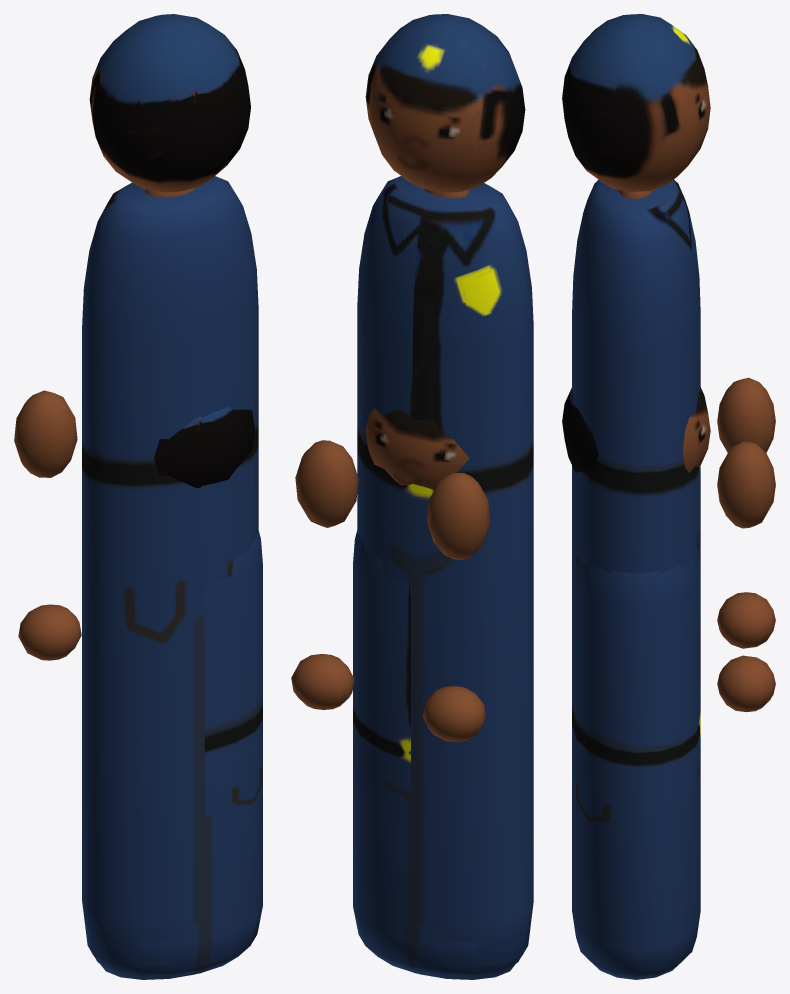
Rendered from seeker_models.glb.
3 views of the same model, side by side, from view 1: azimuth 30°, elevation 25°; view 2: azimuth 150°, elevation 25°; view 3: azimuth 270°, elevation 25° (orthographic).
Visible parts, largest first — view 1: seeker_standing, seeker_crouching; view 2: seeker_standing, seeker_crouching; view 3: seeker_standing, seeker_crouching.
Boxes of the visible parts, left/top/right/bottom form: seeker_standing: left=14, top=14, right=258, bottom=979; seeker_crouching: left=18, top=407, right=262, bottom=976; seeker_standing: left=295, top=14, right=533, bottom=979; seeker_crouching: left=291, top=408, right=520, bottom=976; seeker_standing: left=562, top=14, right=775, bottom=573; seeker_crouching: left=562, top=387, right=775, bottom=979.
Bounding box in the file's own units: 0.3574 × 1.67 × 0.3486.
Materials: 1 (1 with a texture image).
